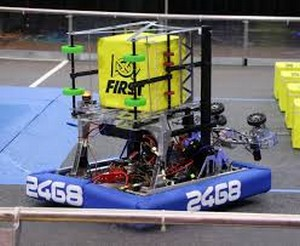cube: (99, 34, 186, 111)
